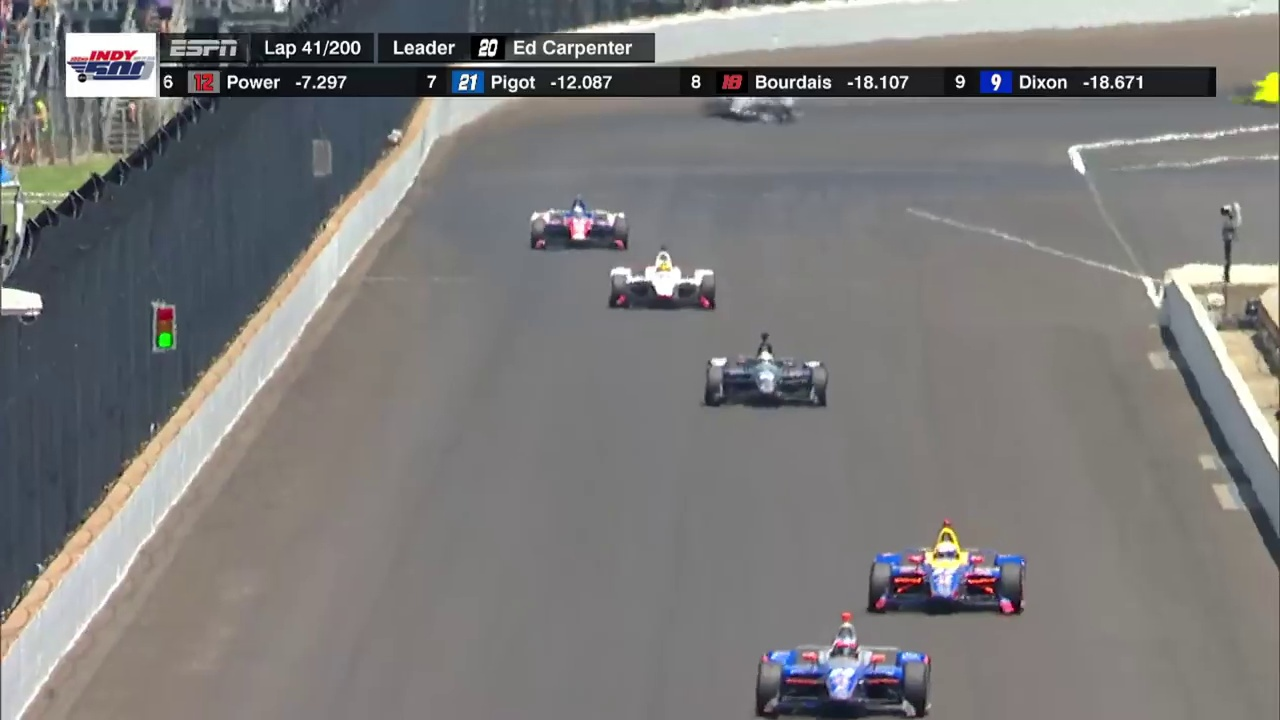car: (846, 513, 1047, 629), (745, 611, 956, 720), (689, 330, 845, 425), (601, 243, 728, 333), (514, 190, 638, 259), (696, 95, 800, 131)
